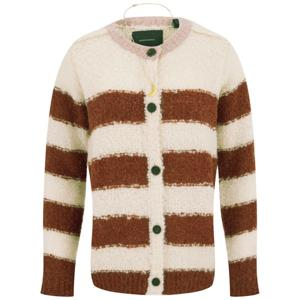C_cardigan sweater: (32, 37, 279, 293)
